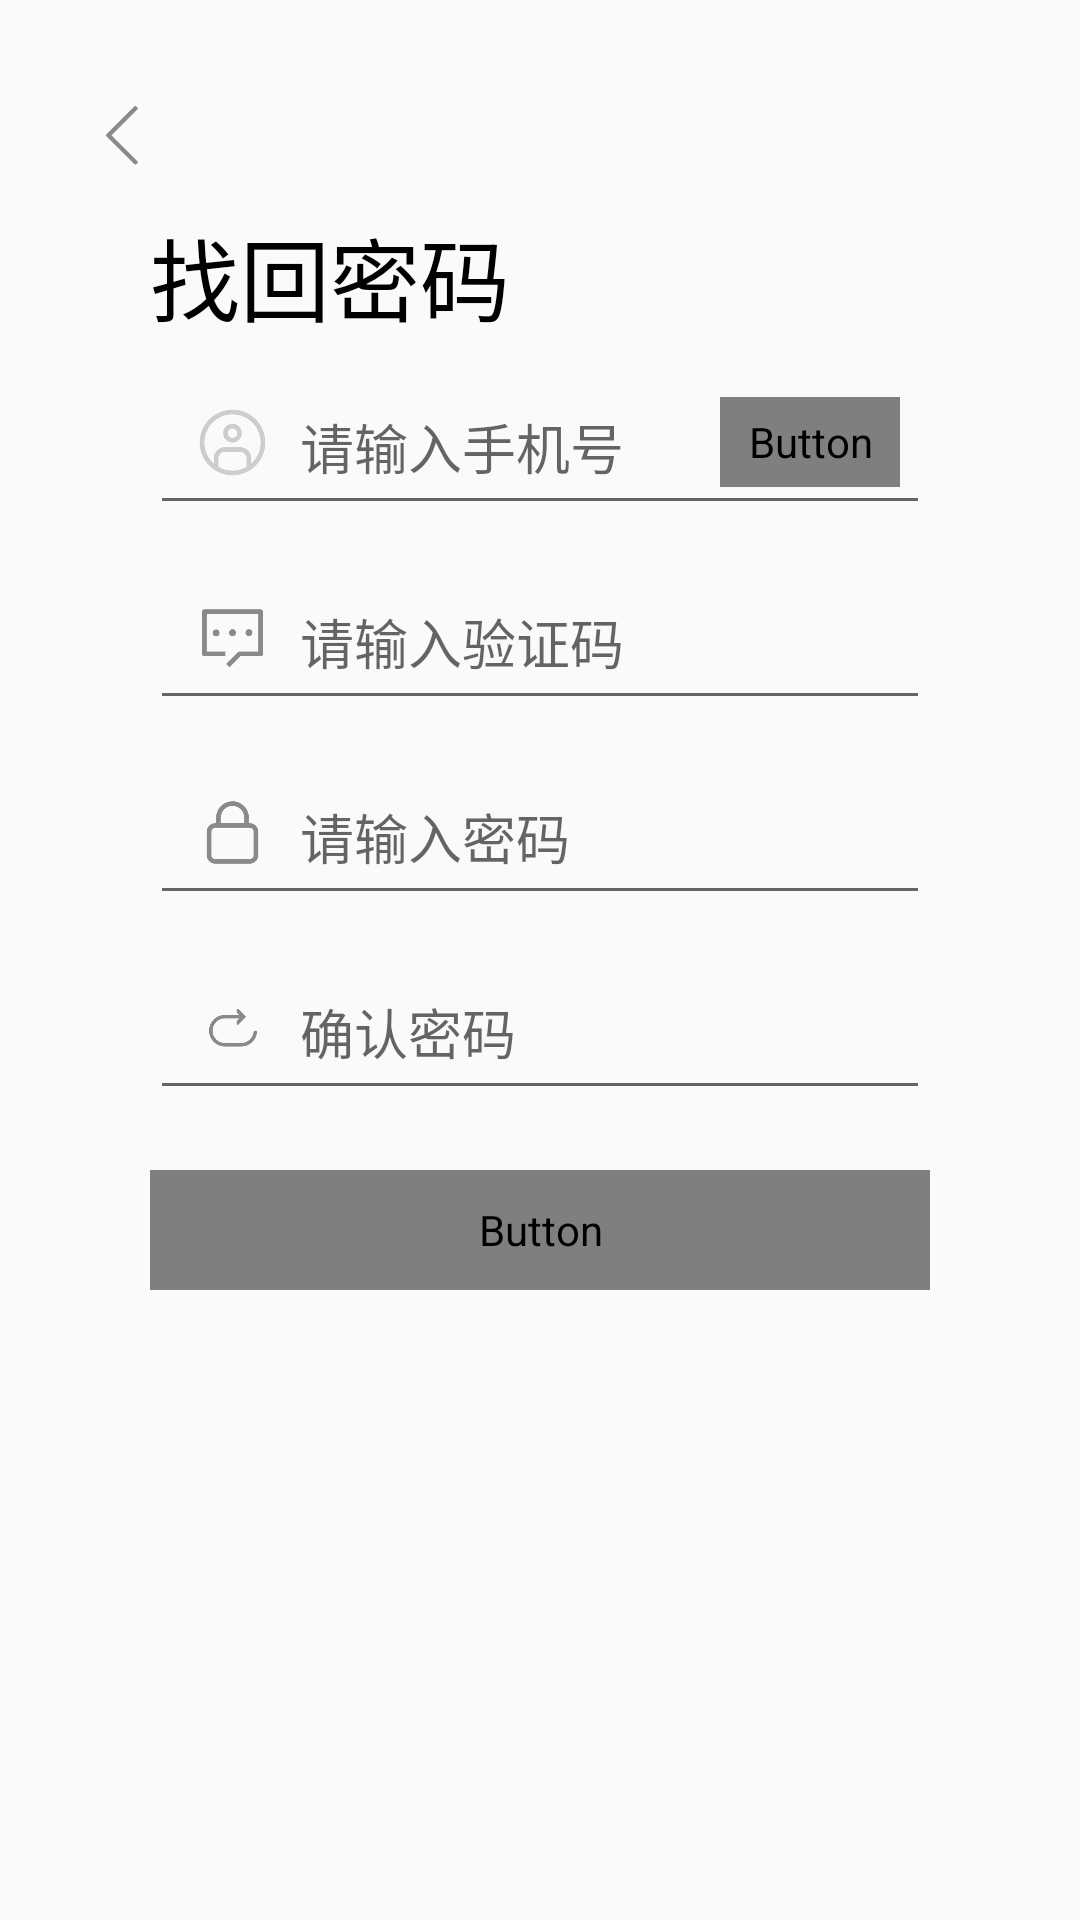

Where to tap for icons on this 1080 x 1920 app screen, as (x,y):
back: (122,135)
message: (232,638)
restore: (233,1028)
uer account: (232,442)
user password: (232,832)
